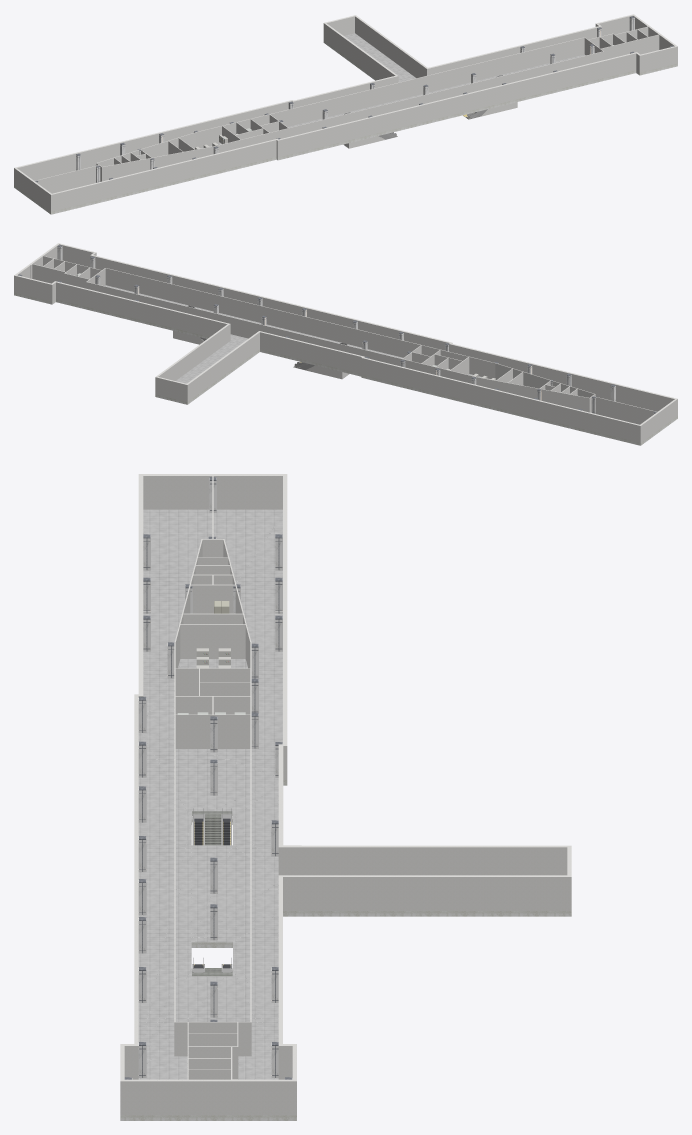
3 views of the same model, one above another, from view 1: azimuth 30°, elevation 25°; view 2: azimuth 150°, elevation 25°; view 3: azimuth 270°, elevation 25° (orthographic). The views are drawn at different scales.
Parts seen in each view (by area): view 1: 地下二层_primitive0, 地下二层_primitive1, 地下二层_primitive2; view 2: 地下二层_primitive0, 地下二层_primitive1, 地下二层_primitive2; view 3: 地下二层_primitive0, 地下二层_primitive2, 地下二层_primitive1.
Boxes of the visible parts, <box> form: 地下二层_primitive0: <box>14,14,677,211</box>; 地下二层_primitive1: <box>14,40,677,214</box>; 地下二层_primitive2: <box>201,33,585,148</box>; 地下二层_primitive0: <box>14,243,677,442</box>; 地下二层_primitive1: <box>14,292,677,445</box>; 地下二层_primitive2: <box>104,285,490,383</box>; 地下二层_primitive0: <box>120,474,571,1115</box>; 地下二层_primitive2: <box>138,509,282,1079</box>; 地下二层_primitive1: <box>120,780,571,1120</box>.
Bounding box in the file's own units: 330 × 20.06 × 104.
75 materials, 53 textured.
